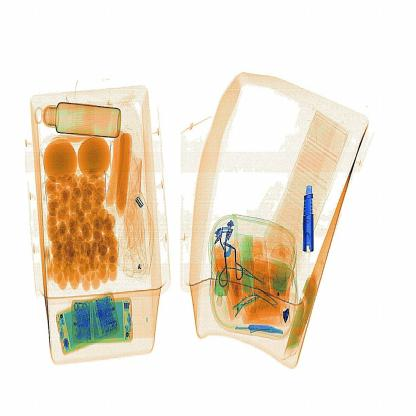pliers: (299, 176, 320, 253)
